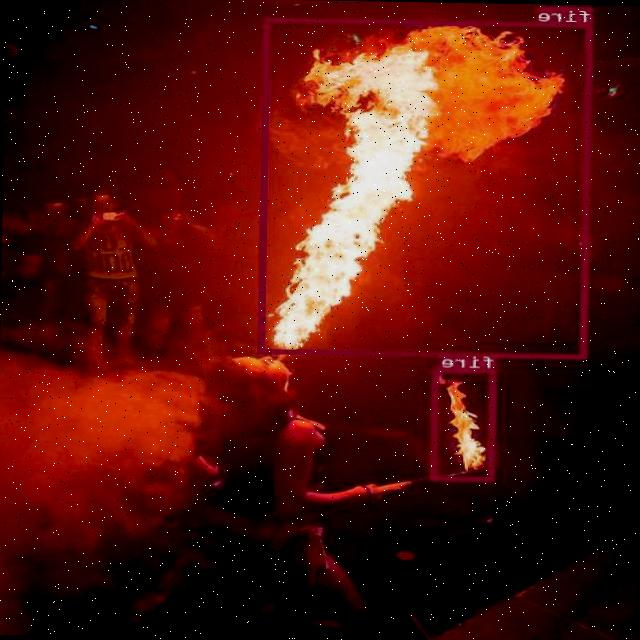fire: (259, 17, 594, 358), (431, 367, 496, 480)
